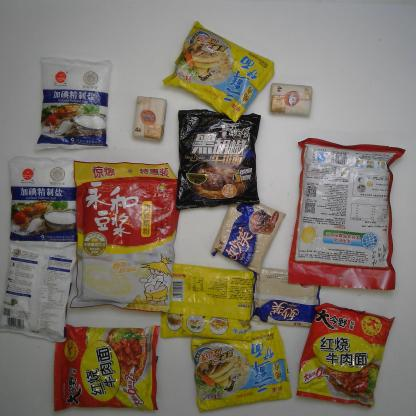Dessert: (205, 195, 289, 277), (246, 262, 329, 330)
Instant Drink: (282, 132, 408, 299), (65, 157, 184, 317)
Instant Noodles: (160, 19, 278, 126), (291, 301, 397, 410), (48, 322, 164, 414), (186, 324, 296, 414), (173, 106, 263, 212), (154, 258, 260, 344)
Seasoner: (0, 237, 80, 347), (31, 51, 116, 154), (5, 152, 85, 252)
Tissue: (267, 79, 315, 119), (130, 93, 168, 143)
